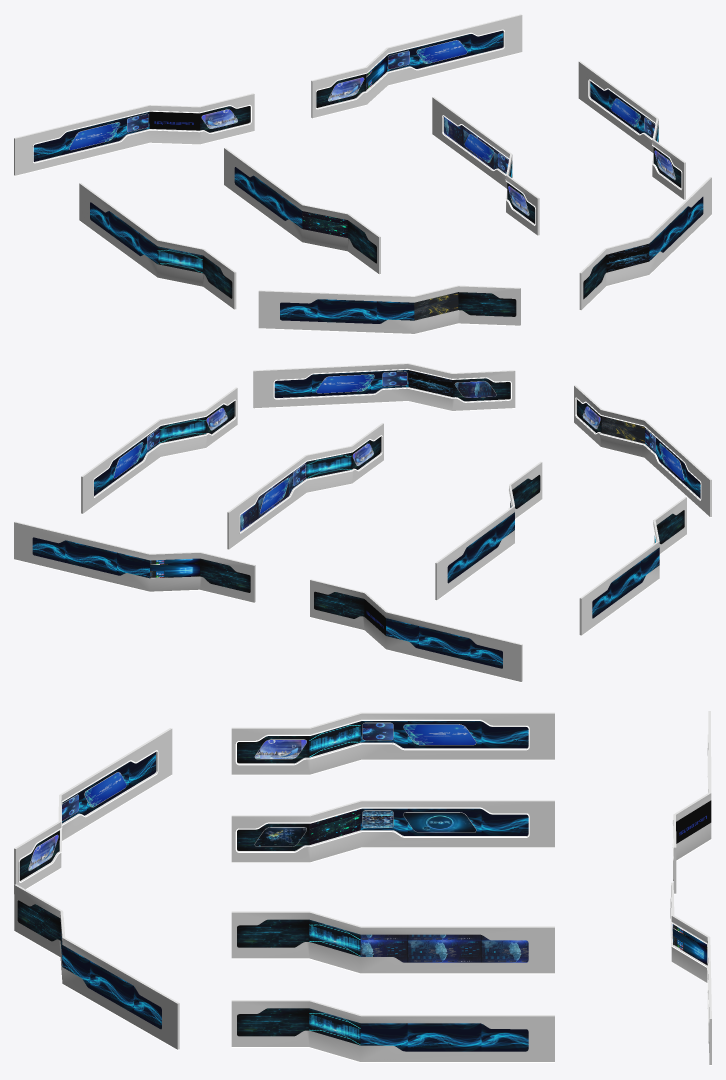
The model's file is board.glb.
3 views of the same model, one above another, from view 1: azimuth 30°, elevation 25°; view 2: azimuth 150°, elevation 25°; view 3: azimuth 270°, elevation 25° (orthographic). The views are drawn at different scales.
Parts seen in each view (by area): view 1: Mesh_601.001, Mesh_614.002, Mesh_601.002, Mesh_601.003, Mesh_601, Mesh_614.001, Mesh_603.001, Mesh_614.003, Mesh_614, Mesh_603, Mesh_603.003, Mesh_616.002 (+20 smaller); view 2: Mesh_614.001, Mesh_601.002, Mesh_614.002, Mesh_614.003, Mesh_614, Mesh_601.001, Mesh_601.003, Mesh_601, Mesh_603.002, Mesh_616.002, Mesh_616.001, Mesh_603.003 (+18 smaller); view 3: Mesh_614, Mesh_614.003, Mesh_601.003, Mesh_601, Mesh_614.001, Mesh_616.003, Mesh_616, Mesh_601.001, Mesh_616.001, Mesh_603.003, Mesh_603, Mesh_615 (+24 smaller).
Boxes of the visible parts, box(x1,y1,x2,y2) form: Mesh_601.001: box(258, 285, 520, 333); Mesh_614.002: box(14, 93, 254, 175); Mesh_601.002: box(311, 14, 522, 118); Mesh_601.003: box(79, 183, 236, 309); Mesh_601: box(224, 147, 380, 274); Mesh_614.001: box(579, 177, 711, 310); Mesh_603.001: box(280, 299, 414, 323); Mesh_614.003: box(578, 61, 685, 199); Mesh_614: box(432, 97, 539, 235); Mesh_603: box(234, 167, 302, 228); Mesh_603.003: box(90, 202, 157, 263); Mesh_616.002: box(33, 112, 149, 161); Mesh_614.001: box(253, 363, 515, 410); Mesh_601.002: box(14, 521, 255, 602); Mesh_614.002: box(310, 579, 522, 681); Mesh_614.003: box(81, 387, 237, 513); Mesh_614: box(227, 423, 383, 549); Mesh_601.001: box(574, 385, 711, 516); Mesh_601.003: box(579, 497, 686, 635); Mesh_601: box(435, 461, 542, 600); Mesh_603.002: box(32, 537, 149, 578); Mesh_616.002: box(386, 618, 502, 668); Mesh_616.001: box(274, 370, 408, 397); Mesh_603.003: box(592, 547, 659, 618); Mesh_614: box(231, 911, 554, 973); Mesh_614.003: box(231, 1000, 554, 1061); Mesh_601.003: box(231, 712, 554, 774); Mesh_601: box(231, 800, 554, 862); Mesh_614.001: box(14, 884, 179, 1049); Mesh_616.003: box(360, 1023, 528, 1051); Mesh_616: box(360, 934, 528, 962); Mesh_601.001: box(14, 728, 172, 893); Mesh_616.001: box(62, 945, 161, 1029); Mesh_603.003: box(360, 721, 528, 748); Mesh_603: box(360, 808, 528, 835); Mesh_615: box(237, 919, 309, 947).
Size of the model in its own units: 56.33 by 4.04 by 54.01.
Materials: 26 (16 with a texture image).
